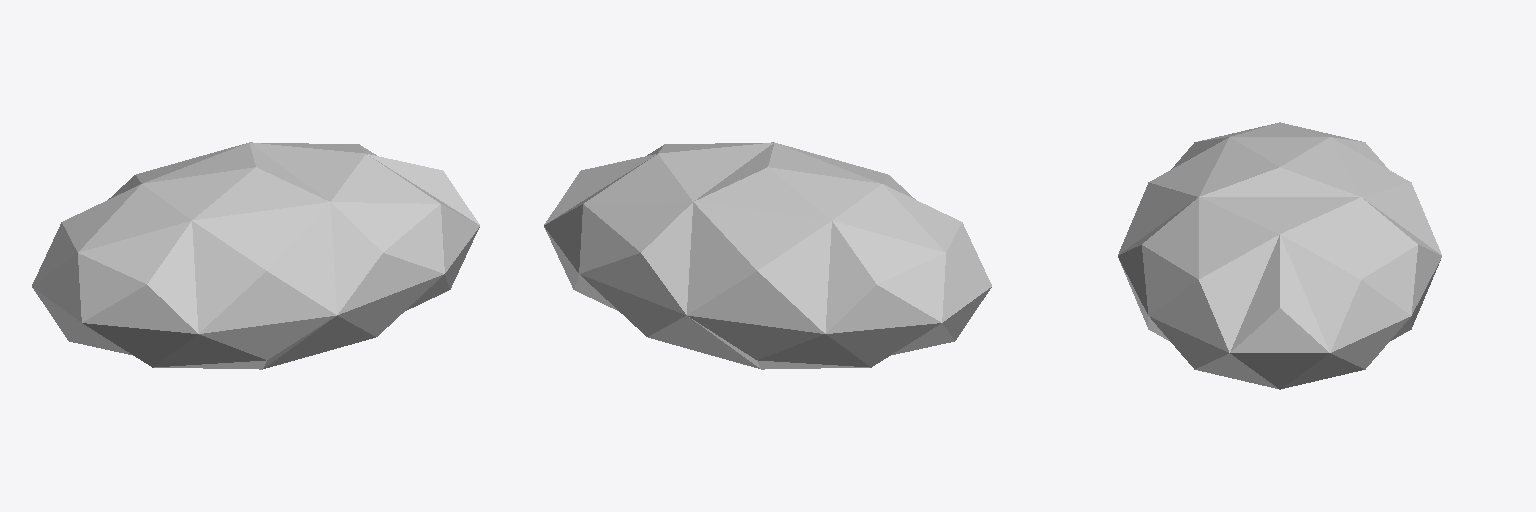
File: CLoud.obj
The picture shows the model from 3 angles: view 1: azimuth 30°, elevation 25°; view 2: azimuth 150°, elevation 25°; view 3: azimuth 270°, elevation 25°; orthographic projection.
Parts seen in each view (by area): view 1: Икосфера.022_Икосфера.001; view 2: Икосфера.022_Икосфера.001; view 3: Икосфера.022_Икосфера.001.
Part boxes in pixels (left/top/right/bottom): Икосфера.022_Икосфера.001: left=32, top=142, right=479, bottom=369; Икосфера.022_Икосфера.001: left=544, top=142, right=991, bottom=369; Икосфера.022_Икосфера.001: left=1118, top=122, right=1441, bottom=389.
Bounding box in the file's own units: 8.29 × 3.53 × 5.86.